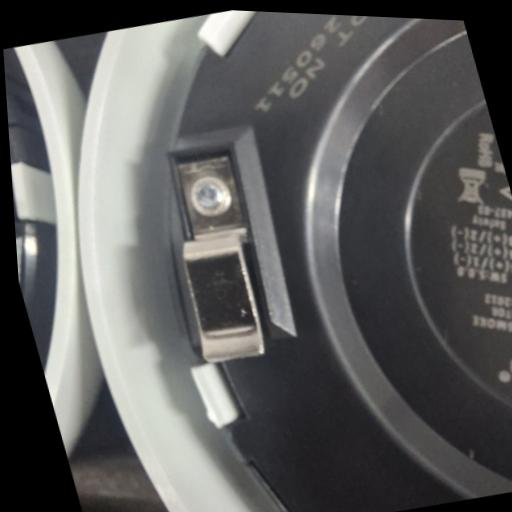yaysiz: (142, 137, 290, 371)
